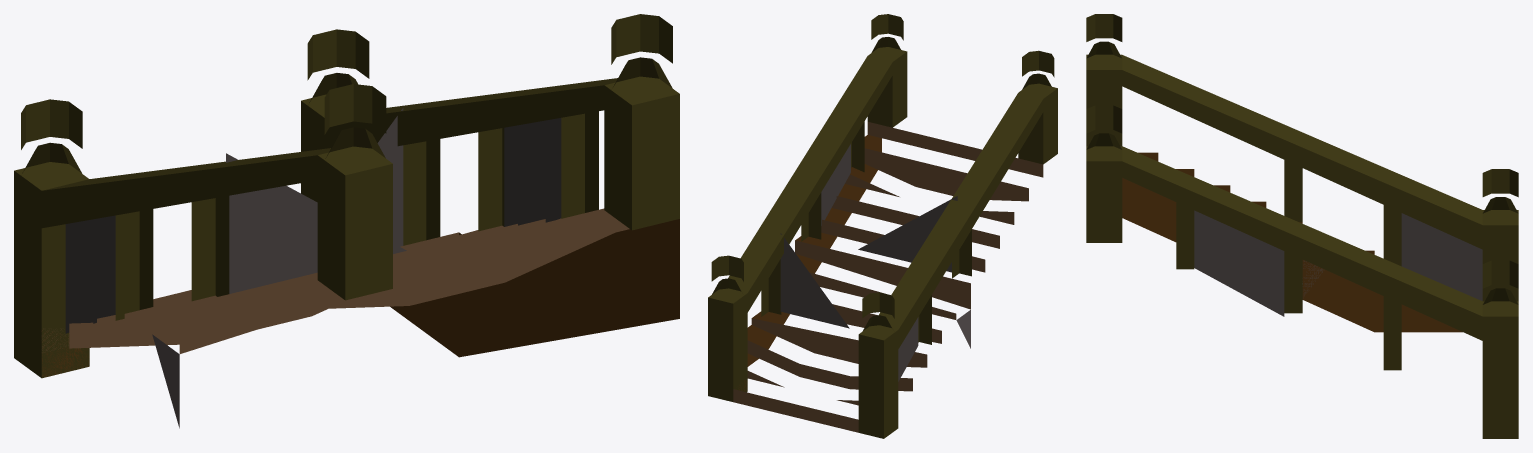
File: obj_stairs_9_0.obj
The picture shows the model from 3 angles, left to right: view 1: azimuth 30°, elevation 25°; view 2: azimuth 150°, elevation 25°; view 3: azimuth 270°, elevation 25°; orthographic projection. The views are drawn at different scales.
Size of the model in its own units: 1.75 by 2.44 by 3.
